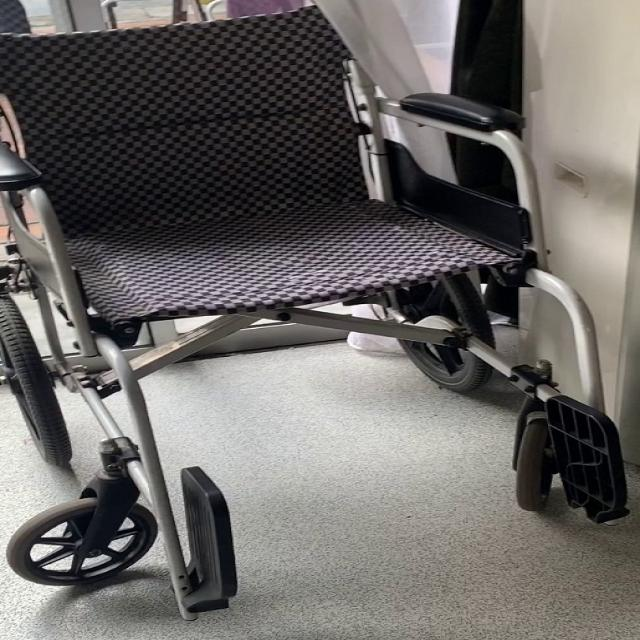wheelchair: (10, 0, 640, 620)
